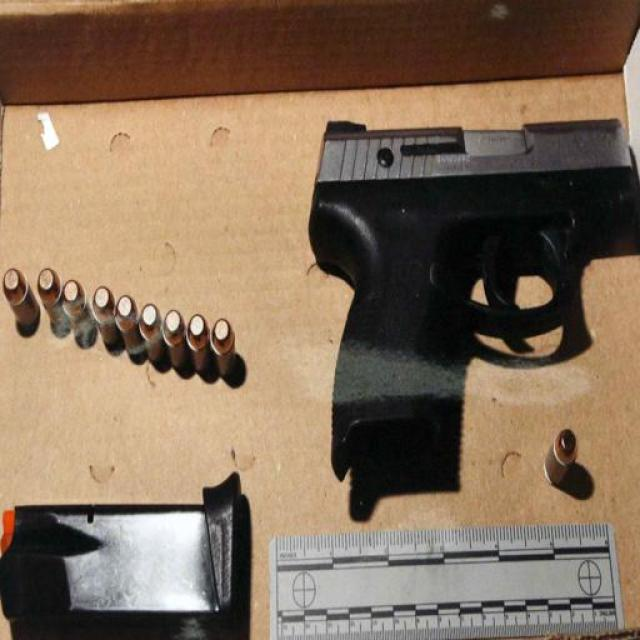pistol: (297, 107, 631, 457)
